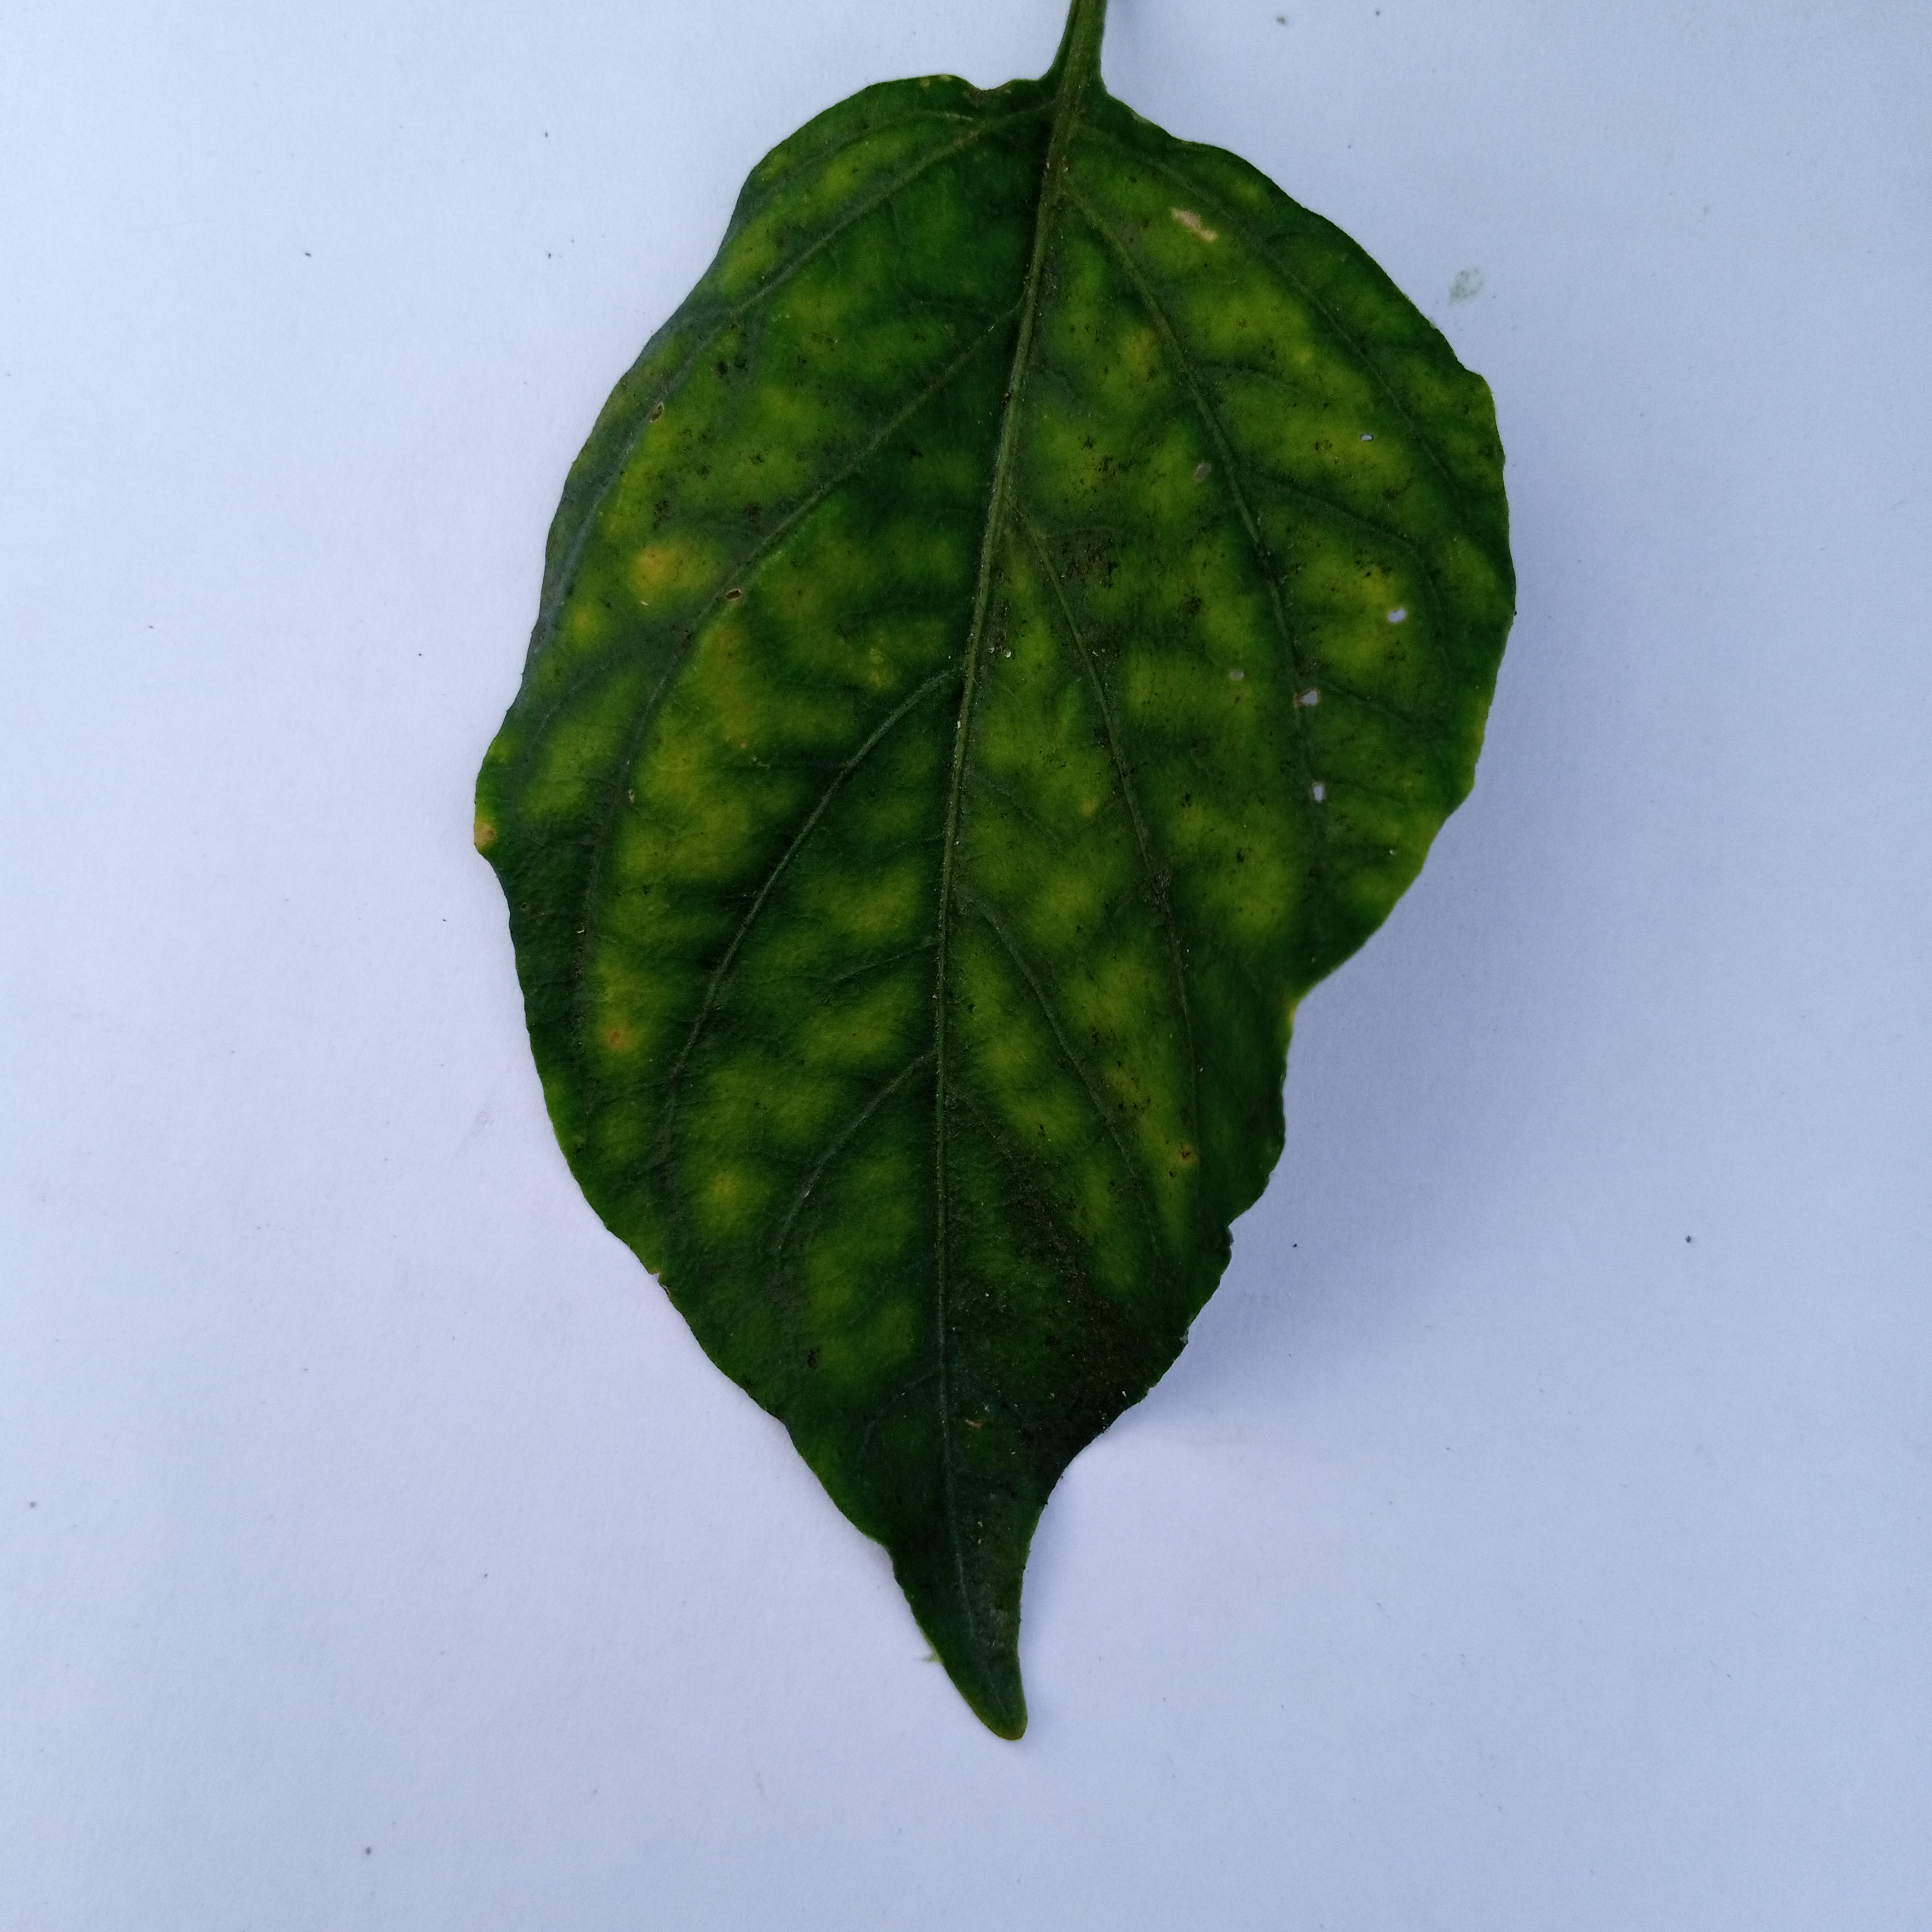Leaf: (280, 27, 1552, 1796)
